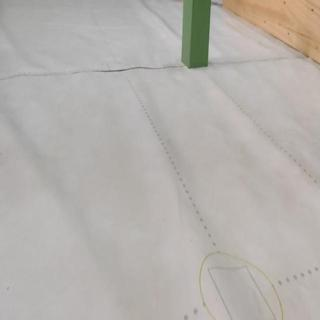greenbox: (181, 0, 213, 69)
